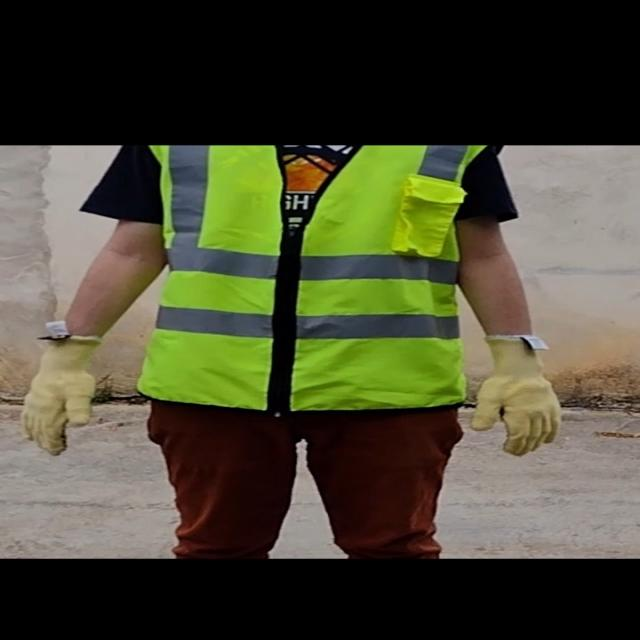glove: (464, 328, 567, 458), (15, 333, 117, 454)
pants: (138, 392, 483, 558)
vest: (127, 144, 492, 413)
